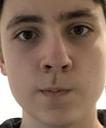without_mask: (2, 1, 106, 128)
